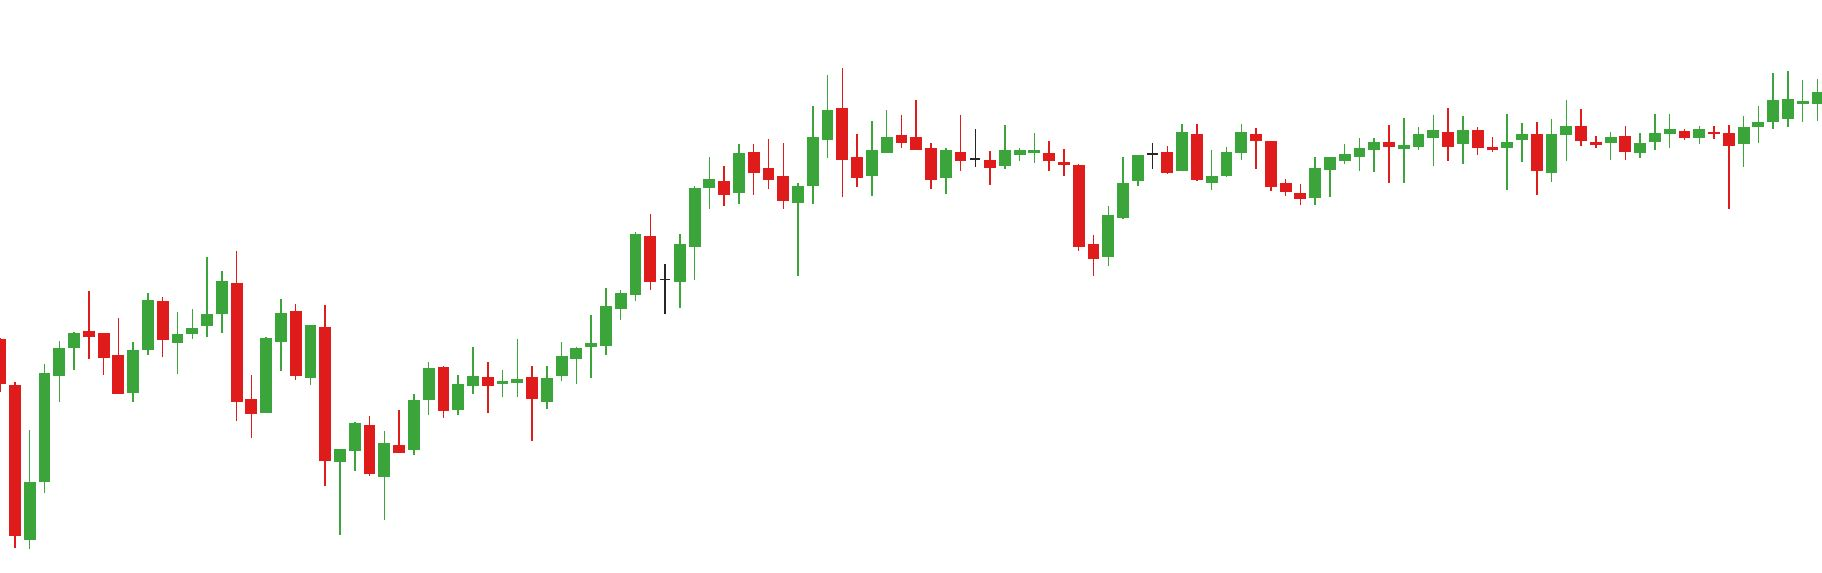buy: (248, 334, 363, 553)
